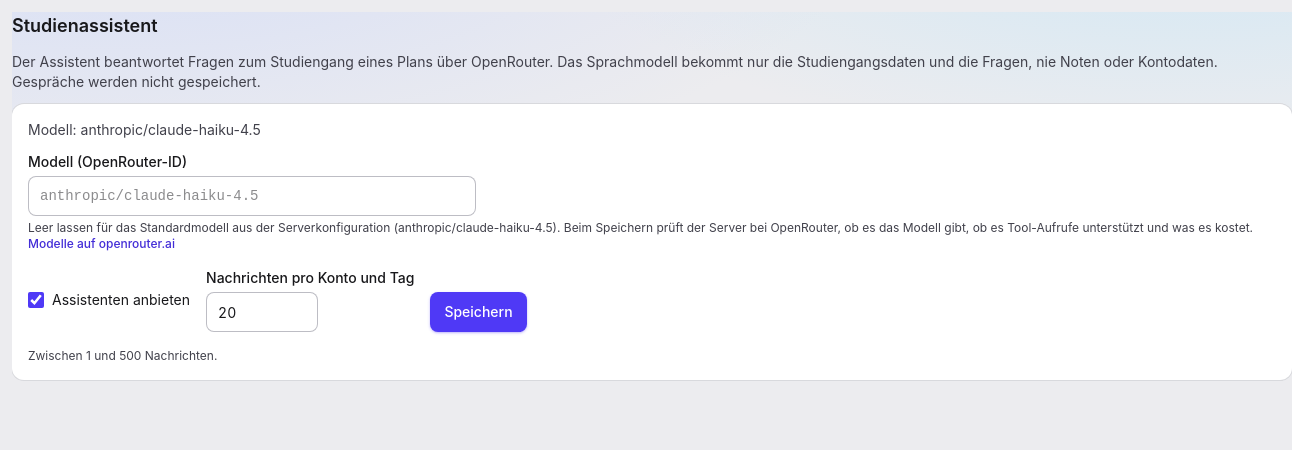
Test case: study assistant settings › saves a free model right away with a note, and explains an unknown one
This screenshot has width=1292, height=450.
Type "nobody/model" into the field labelled "Modell (OpenRouter-ID)" at (252,196), box [28,176,476,216]
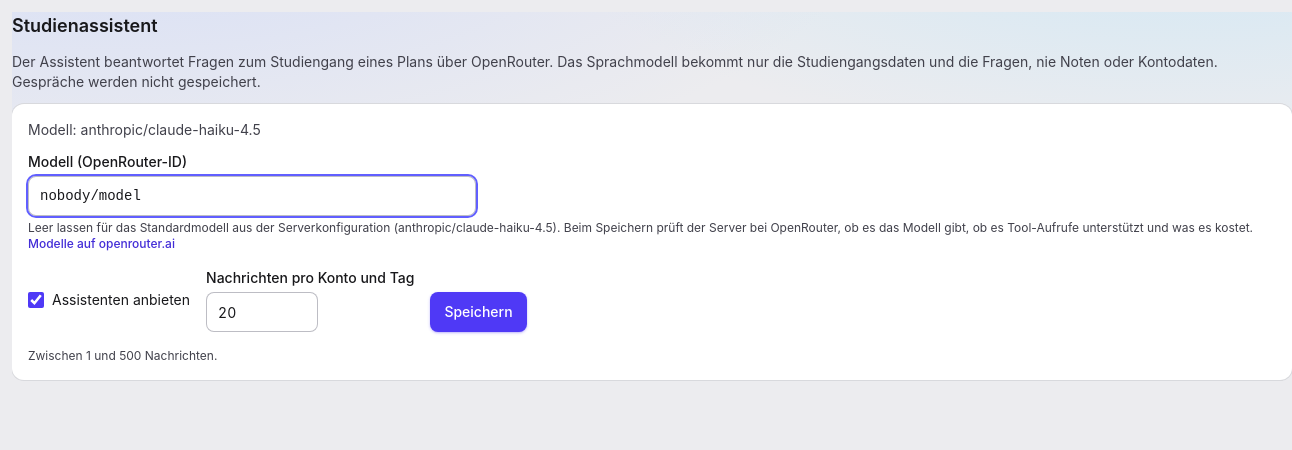
Click the button "Speichern" at (478,312), box [430,292,527,332]
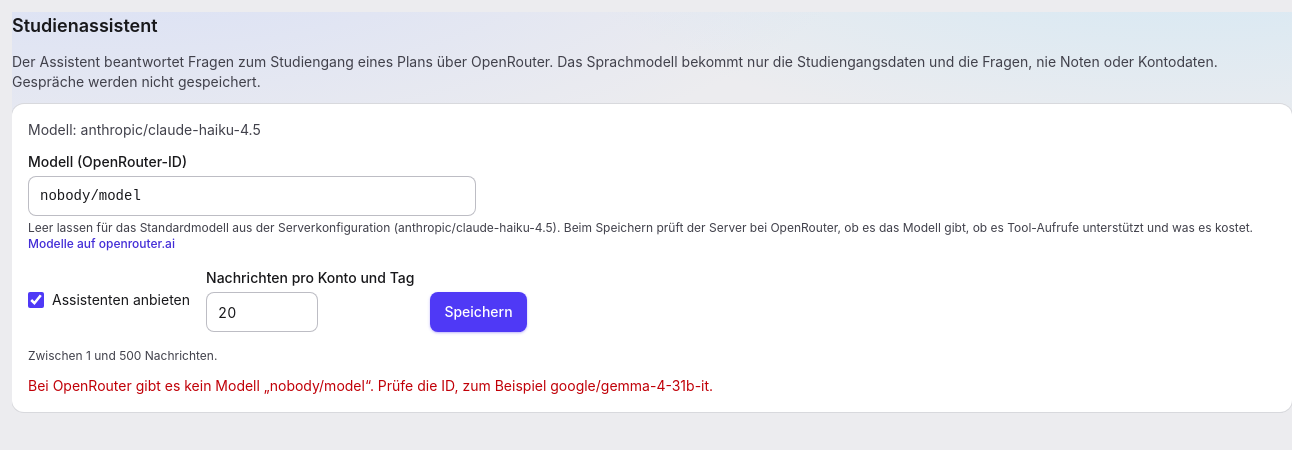
Expected: the message shows "Bei OpenRouter gibt es kein Modell „nobody/model“.", [28,377,713,394]
Replace the text in the field labelled "Modell (OpenRouter-ID)" with "google/gemma-4-31b-it:free" at (252,196), box [28,176,476,216]
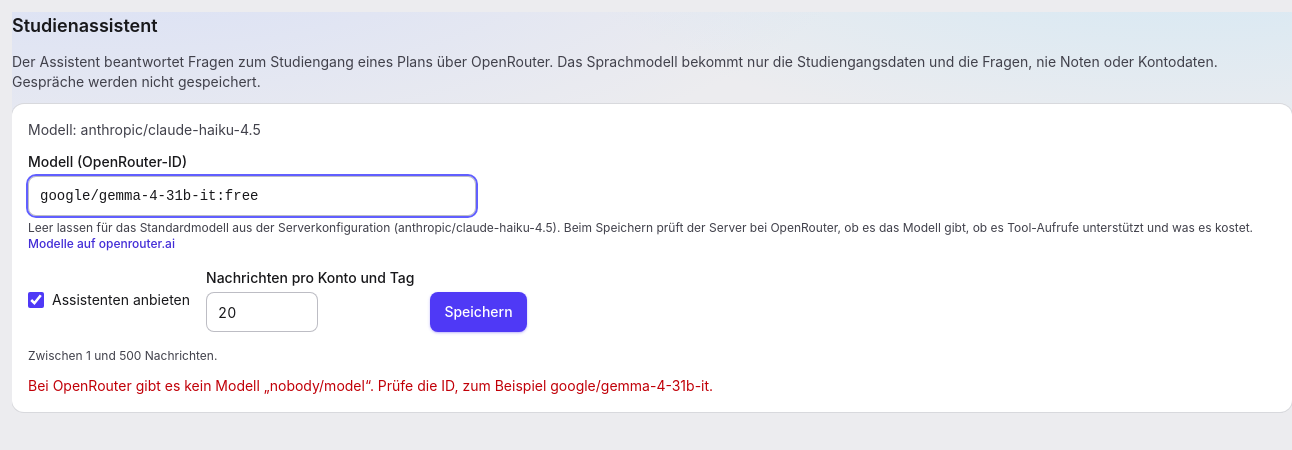
Click the button "Speichern" at (478,312), box [430,292,527,332]
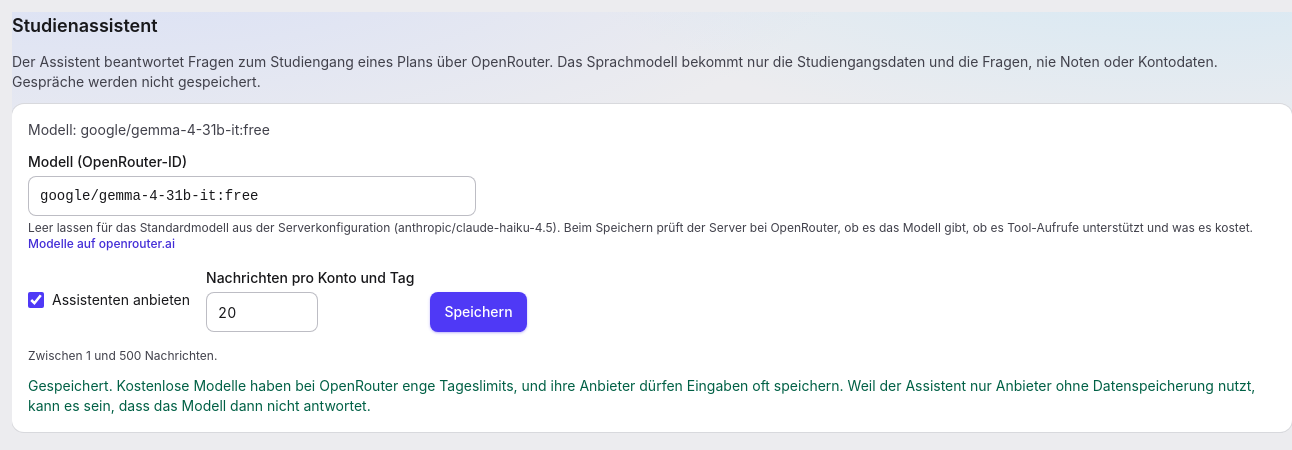
Expected: the text "Kostenlose Modelle haben bei OpenRouter enge Tageslimits" is shown, [28,377,1255,414]
